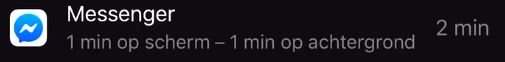name: (62, 1, 180, 29)
time: (63, 30, 116, 56), (230, 32, 278, 57)
